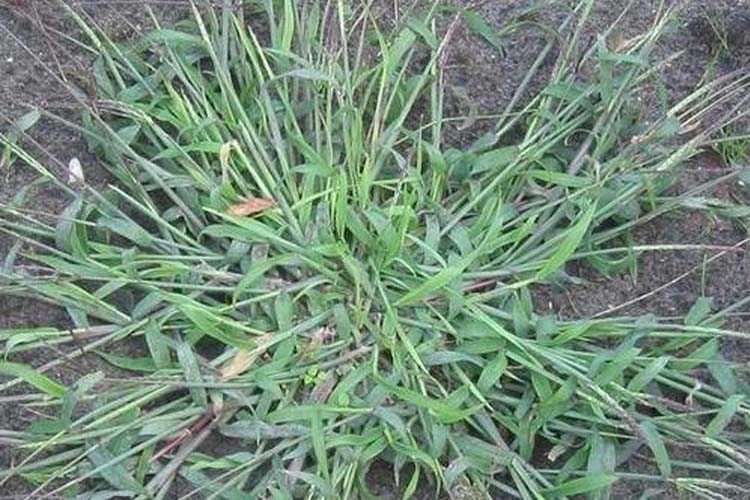crabgrass: (57, 18, 732, 500)
